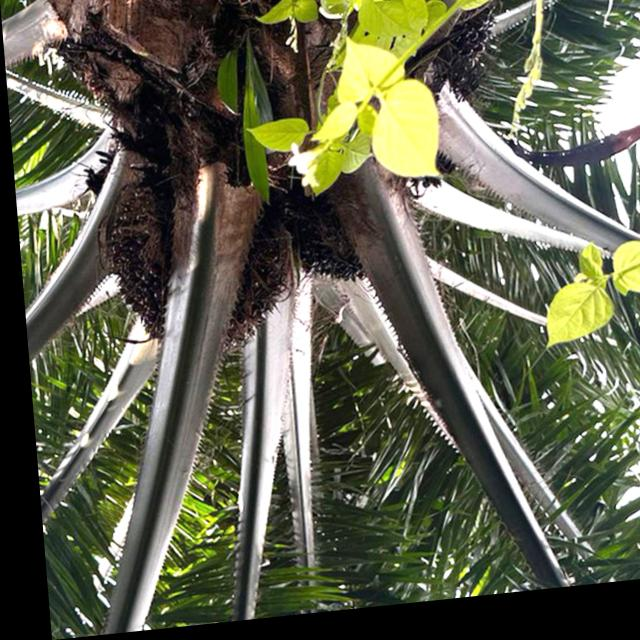unripe: (275, 187, 389, 302)
